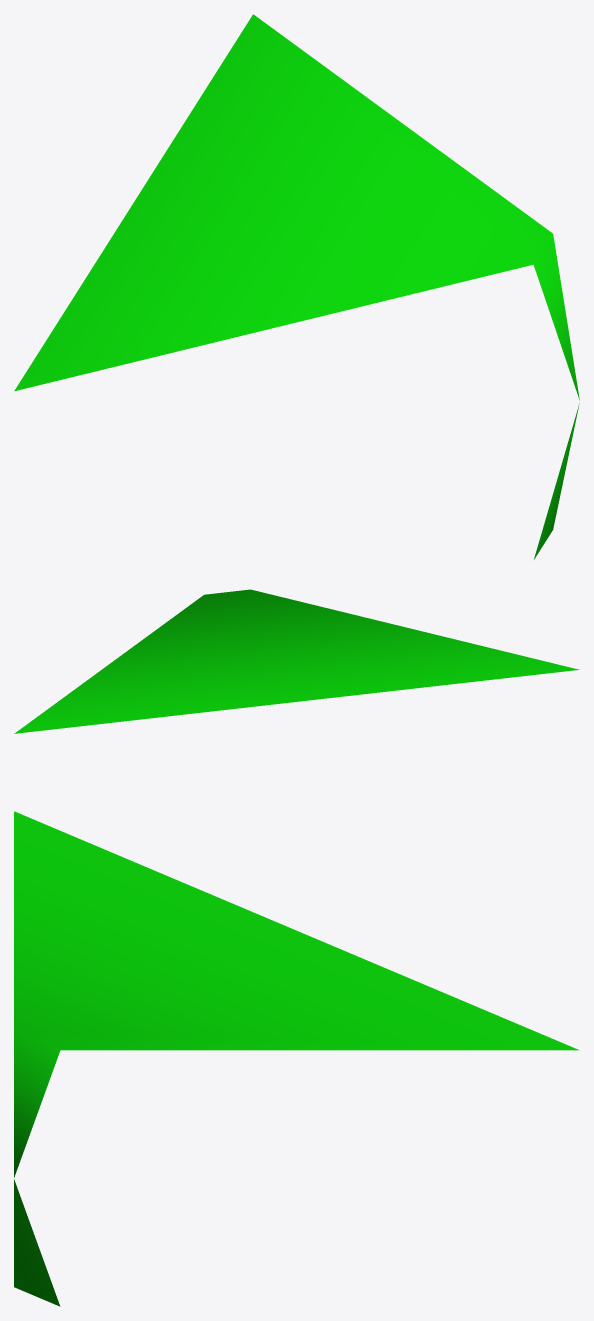
Rendered from Filler_TopFloor.glb.
3 views of the same model, one above another, from view 1: azimuth 30°, elevation 25°; view 2: azimuth 150°, elevation 25°; view 3: azimuth 270°, elevation 25° (orthographic). The views are drawn at different scales.
Visible parts, largest first — view 1: Filler_TopFloor; view 2: Filler_TopFloor; view 3: Filler_TopFloor.
Boxes of the visible parts, box(x1,y1,x2,y2) form: Filler_TopFloor: box(14, 14, 579, 559); Filler_TopFloor: box(14, 589, 579, 733); Filler_TopFloor: box(14, 811, 579, 1306).
Bounding box in the file's own units: 0.5 × 0.25 × 0.5.
